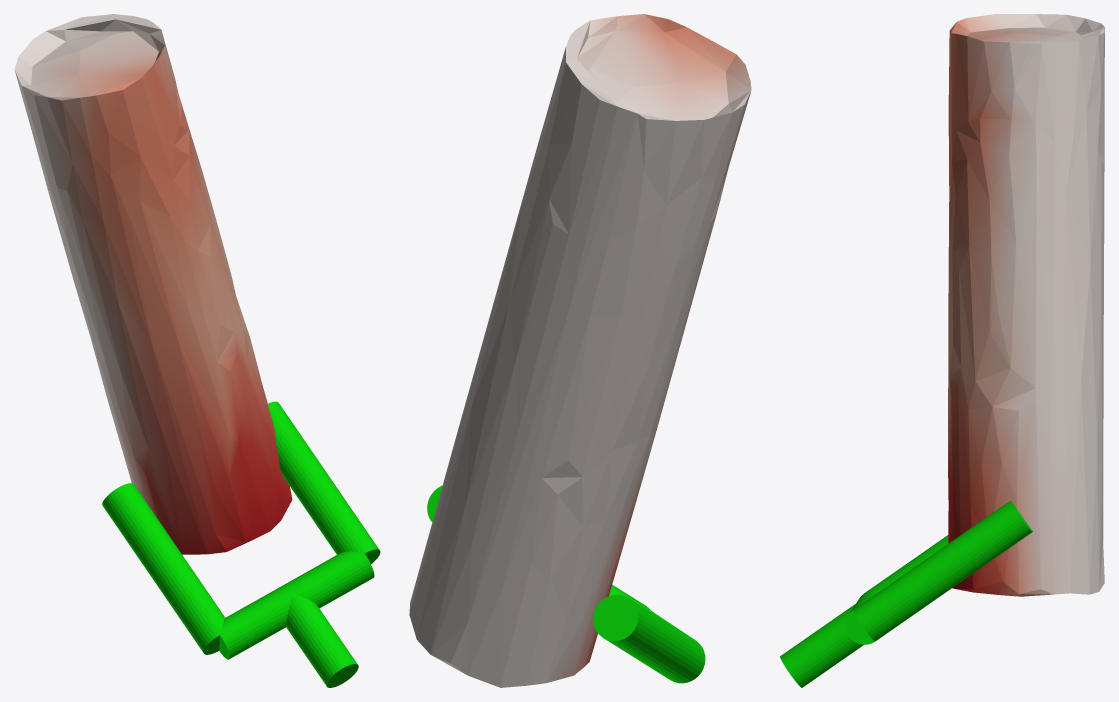
The model's file is round_000_trial_000.obj.
3 views of the same model, side by side, from view 1: azimuth 30°, elevation 25°; view 2: azimuth 150°, elevation 25°; view 3: azimuth 270°, elevation 25° (orthographic). The views are drawn at different scales.
Visible parts, largest first — view 1: geometry_0, geometry_1; view 2: geometry_0, geometry_1; view 3: geometry_0, geometry_1.
Boxes of the visible parts, x1,y1,x2,y2 form: geometry_0: [14, 14, 292, 554]; geometry_1: [102, 401, 380, 687]; geometry_0: [409, 14, 751, 687]; geometry_1: [427, 485, 705, 683]; geometry_0: [948, 14, 1104, 596]; geometry_1: [780, 501, 1032, 687].
Bounding box in the file's own units: 0.0833 × 0.1737 × 0.0841.
